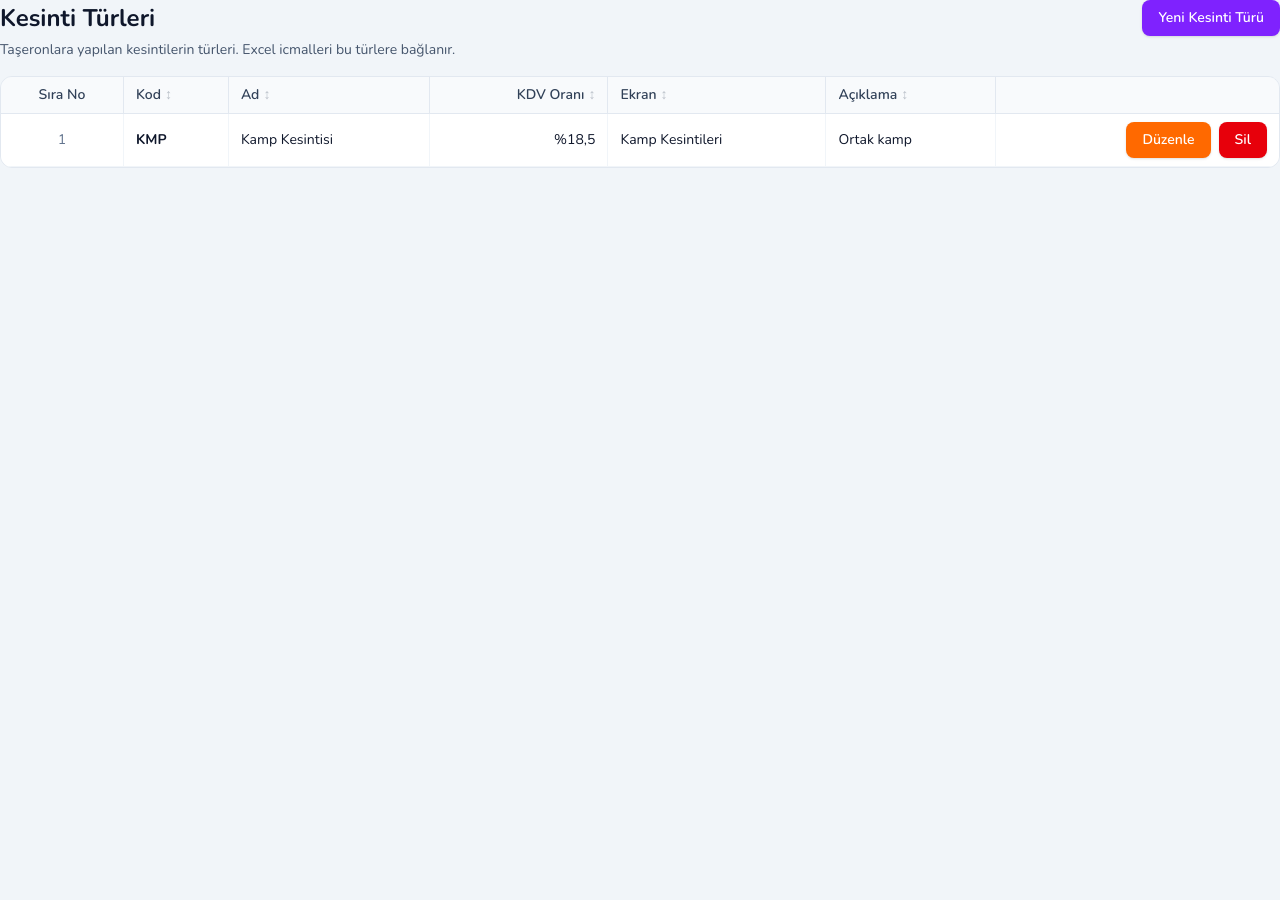
Test: KesintiTurleriPage › 100ü aşan KDV oranını ve boş zorunlu alanları göndermez
Expected: the text "KMP" is shown, top-left (136, 130), bottom-right (167, 149)
Click the button "Yeni Kesinti Türü" at coordinates (1211, 18), box top-left (1142, 0), bottom-right (1279, 36)
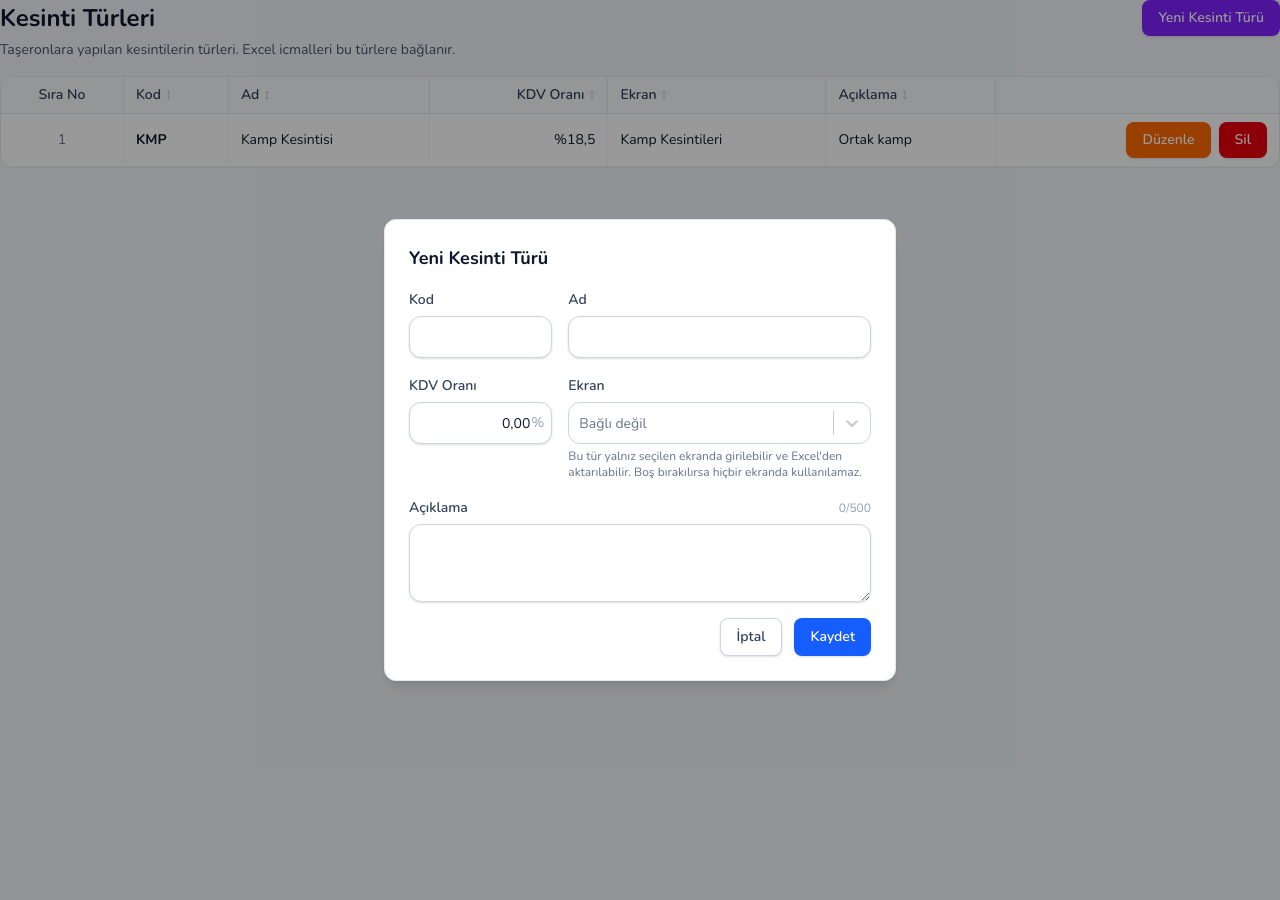
Replace the text in the field labelled "KDV Oranı" with "120" at coordinates (481, 423), box top-left (409, 402), bottom-right (552, 444)
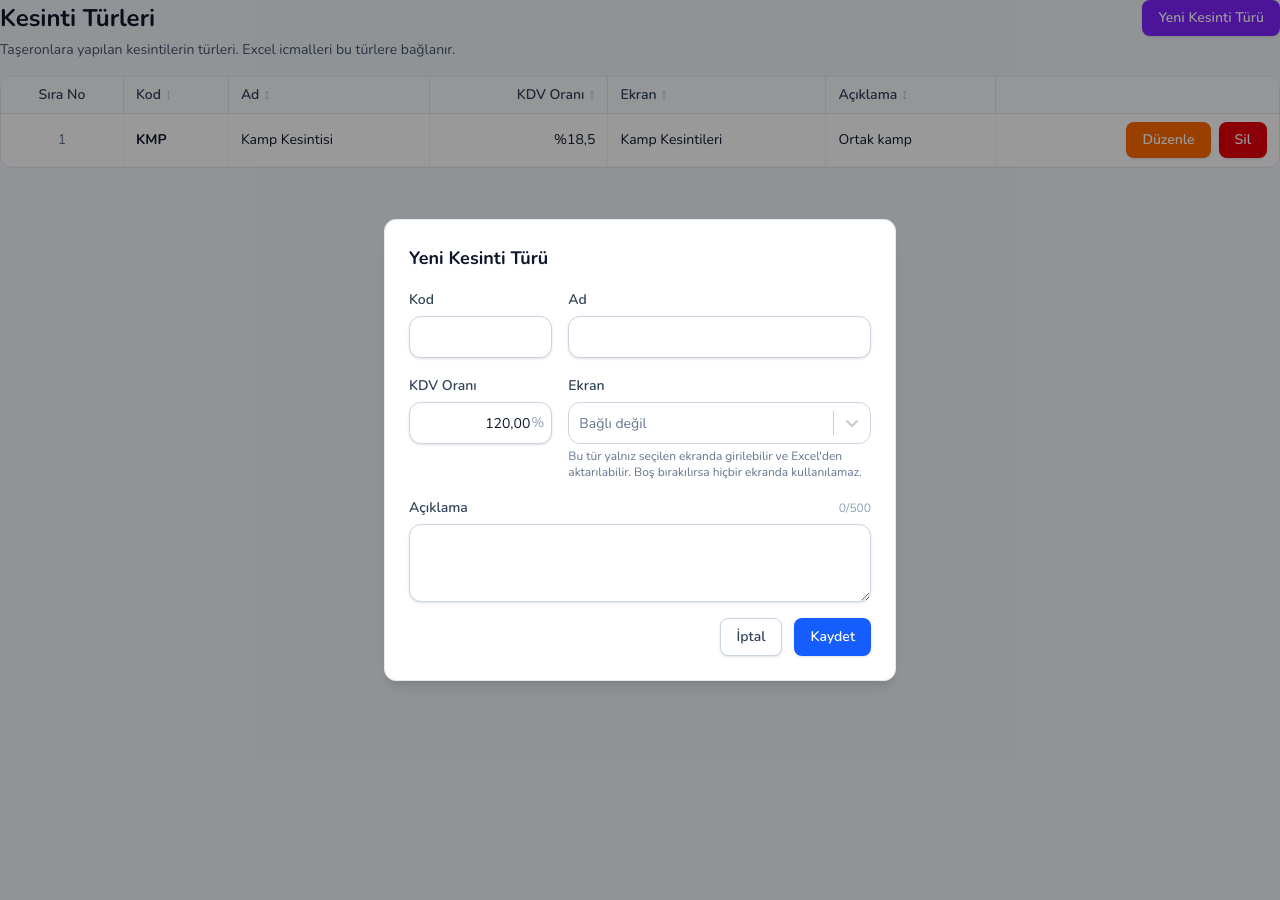
Click the button "Kaydet" at coordinates (833, 637), box top-left (794, 618), bottom-right (871, 656)
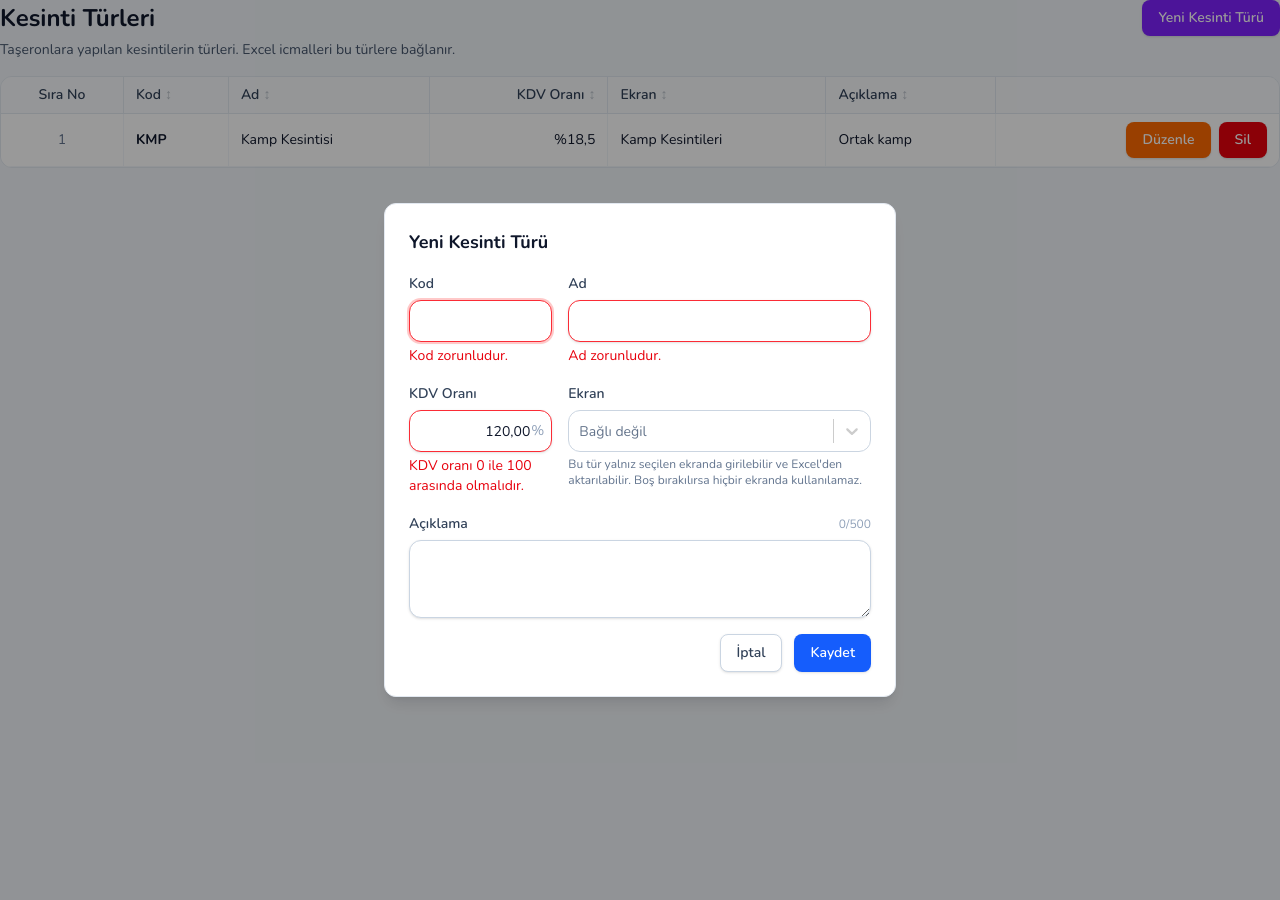
Expected: the text "KDV oranı 0 ile 100 arasında olmalıdır." is shown, top-left (409, 456), bottom-right (552, 496)
Expected: the text "Kod zorunludur." is shown, top-left (409, 346), bottom-right (508, 365)
Expected: the text "Ad zorunludur." is shown, top-left (568, 346), bottom-right (661, 365)
